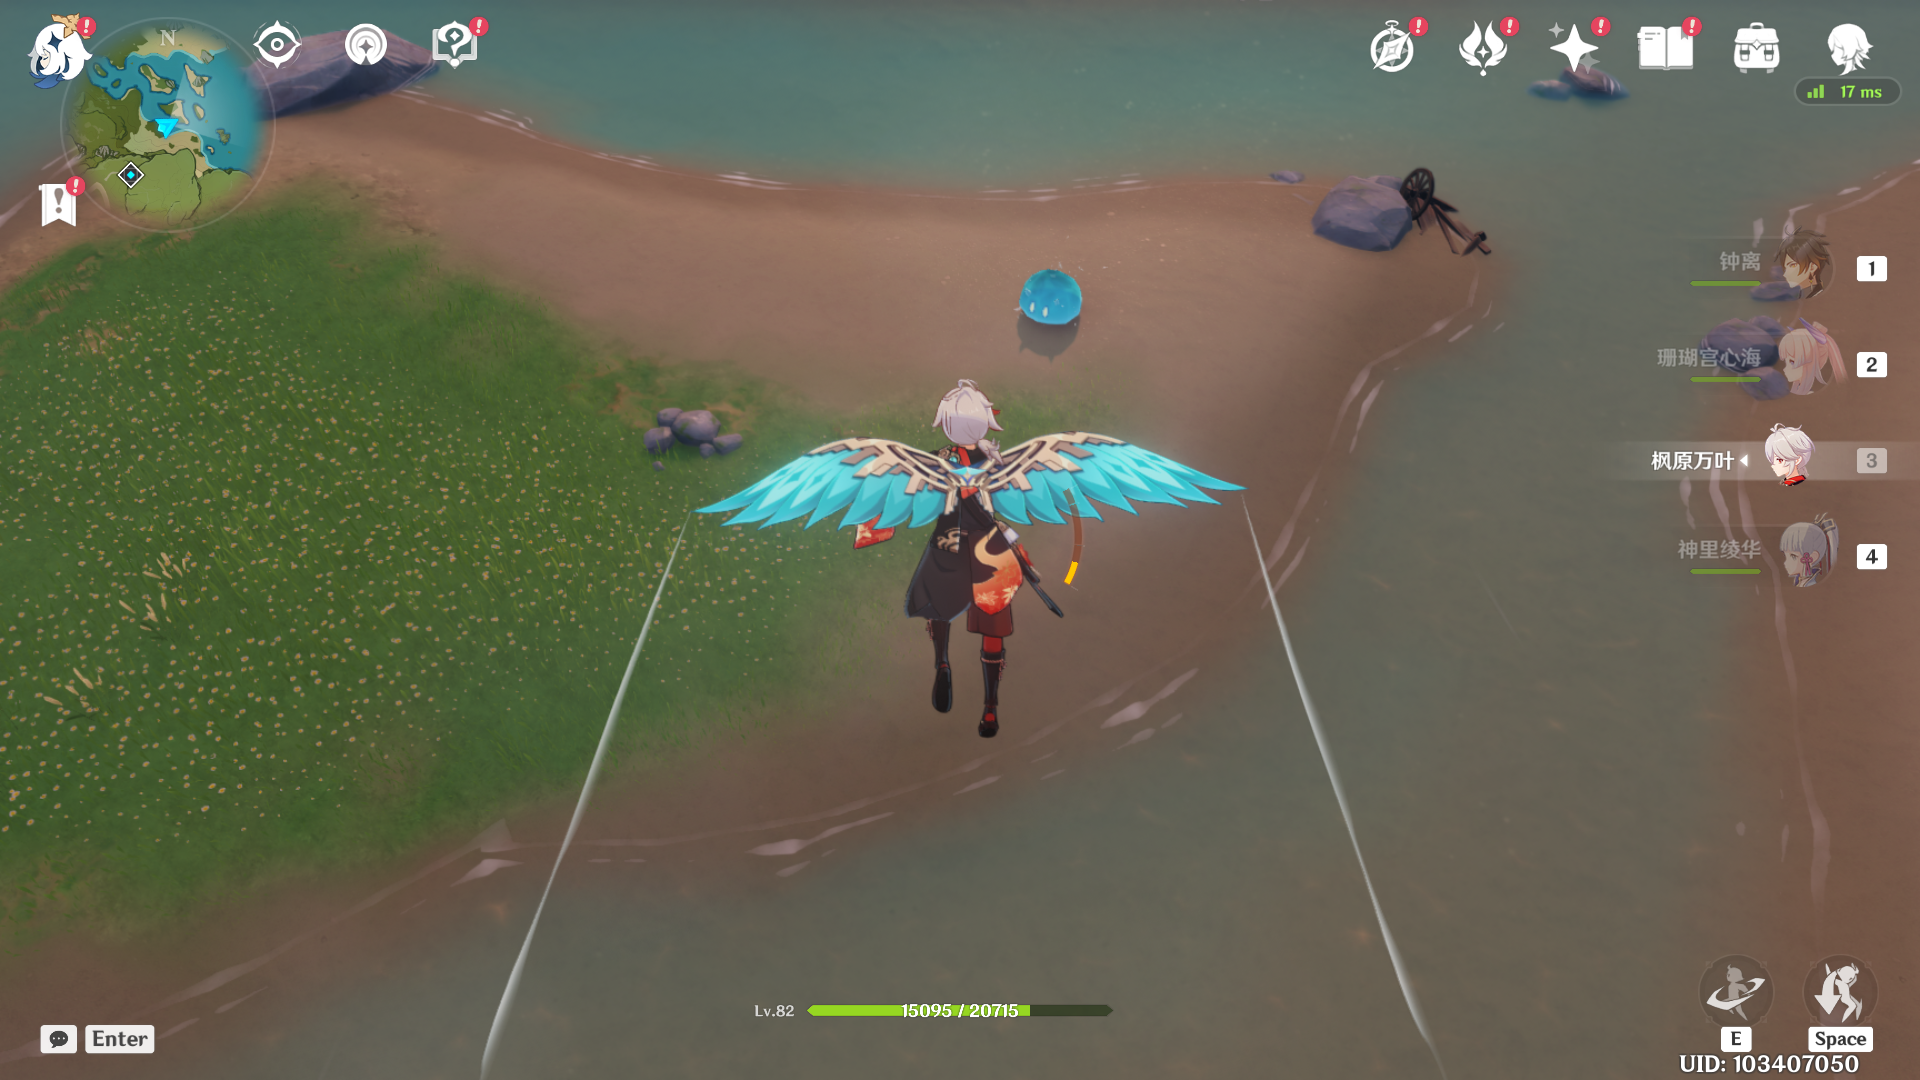slime: (1010, 264, 1095, 335)
